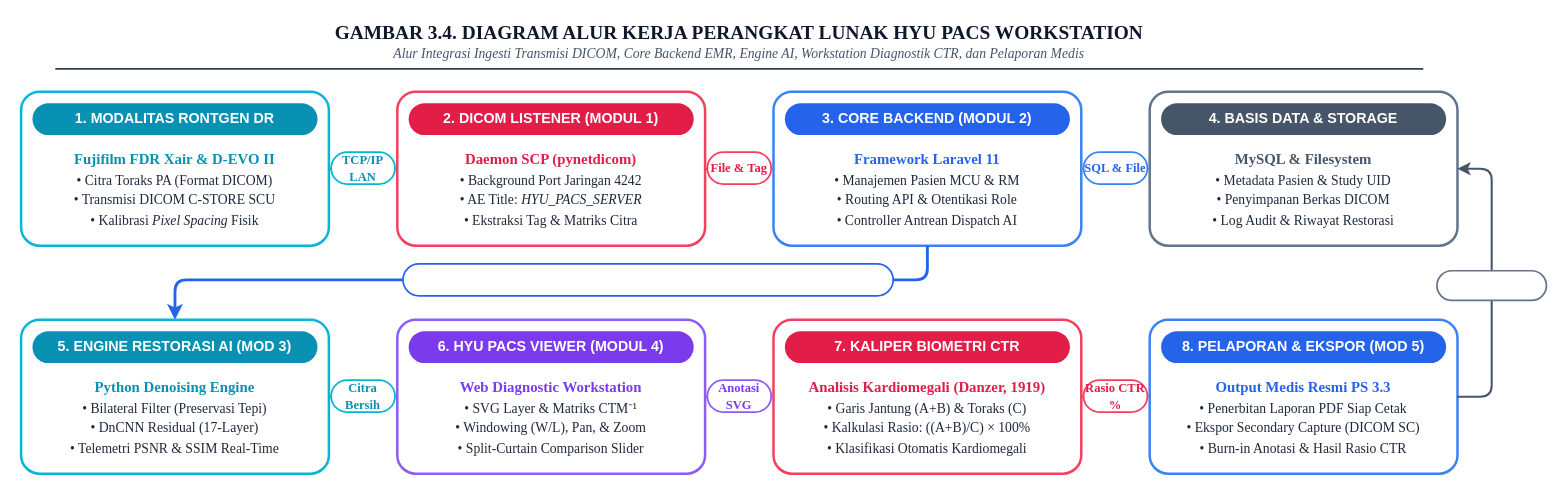
The diagram is 1566 pixels wide and 495 high, and some of its shapes have lost their labels. Here are the shapes that lost their labels. From the top down, the box of each, then its label:
(402, 263, 894, 296): Dispatch Job Pemrosesan Restorasi AI & Ekstraksi Matriks Citra 16-bit
(1436, 269, 1547, 301): Sinkronisasi EMR
